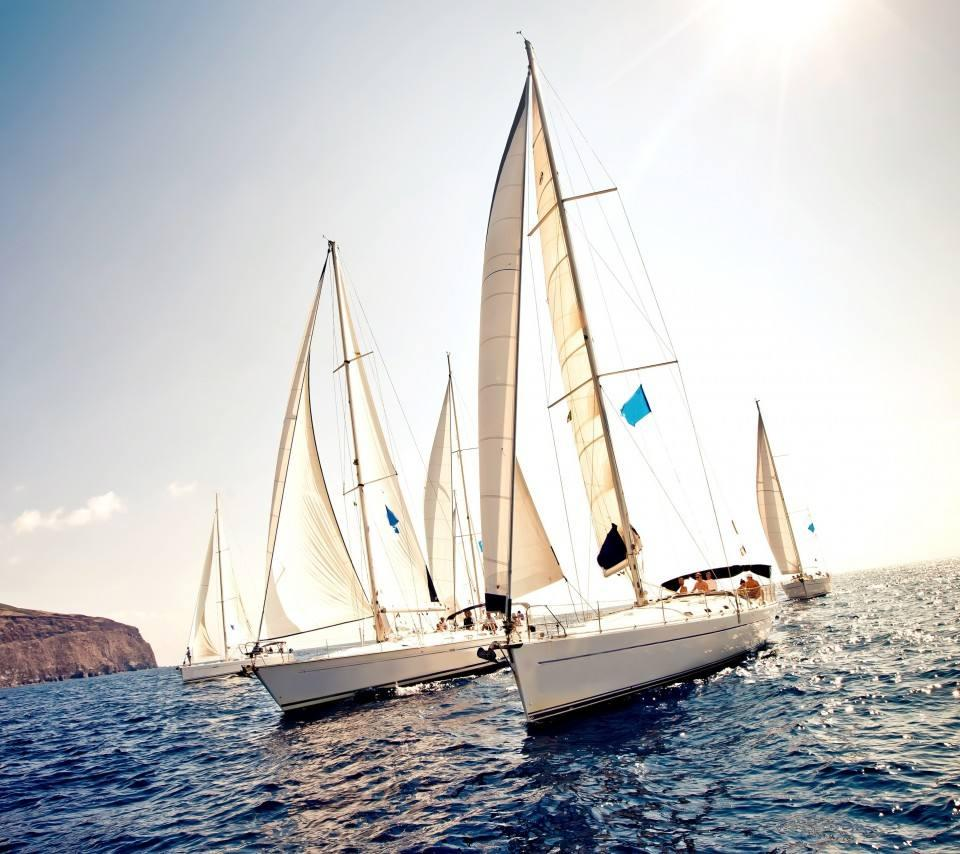fanchuan: (472, 1, 783, 719), (247, 222, 467, 715), (747, 393, 845, 603), (178, 496, 258, 691)
